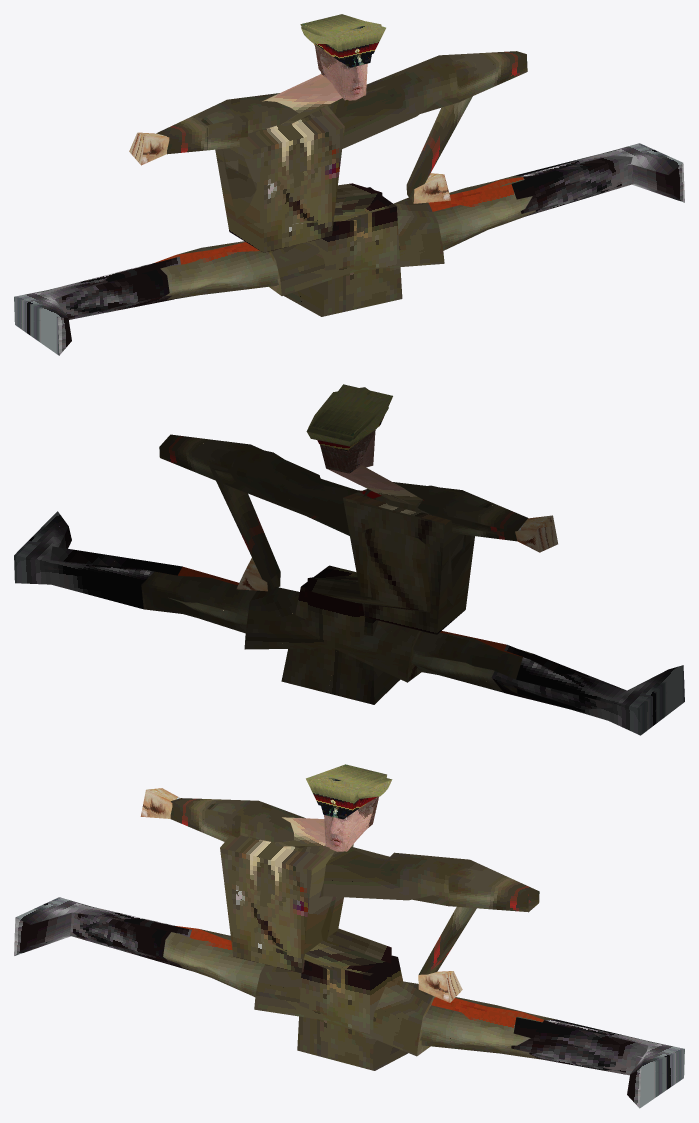
Rendered from CorumovZ.obj.
3 renders of one model, top to bottom at view 1: azimuth 30°, elevation 25°; view 2: azimuth 150°, elevation 25°; view 3: azimuth 330°, elevation 25°, orthographic.
Bounding box in the file's own units: 2339 × 1011 × 306.
22 materials, 22 textured.
